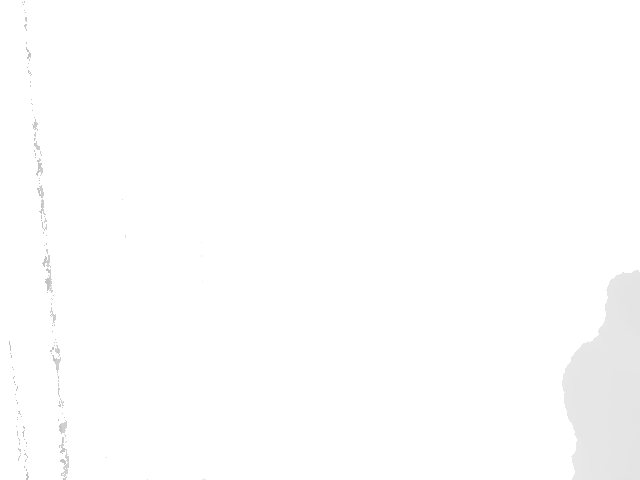head: (597, 271, 640, 337)
person: (560, 271, 640, 480)
